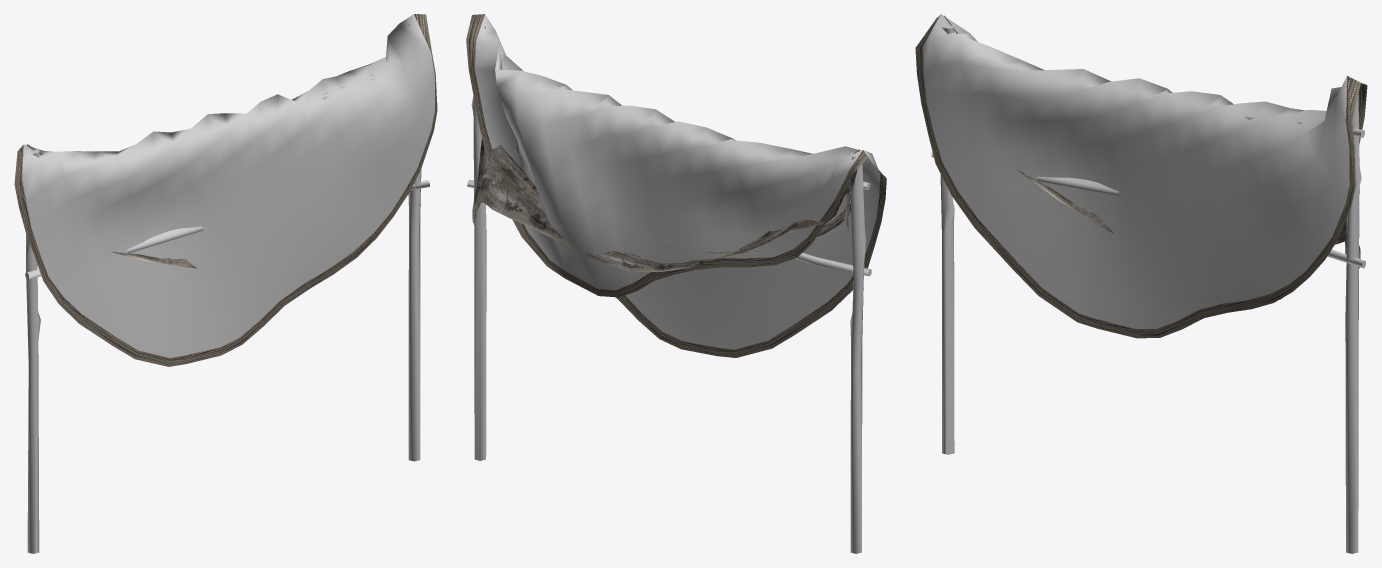
The model's file is Fishnet3.fbx.
The picture shows the model from 3 angles, left to right: view 1: azimuth 30°, elevation 25°; view 2: azimuth 150°, elevation 25°; view 3: azimuth 330°, elevation 25°; orthographic projection. The views are drawn at different scales.
Visible parts, largest first — view 1: polySurface1192; view 2: polySurface1192; view 3: polySurface1192.
Boxes of the visible parts, bbox=[...] form: polySurface1192: bbox=[14, 14, 437, 553]; polySurface1192: bbox=[466, 14, 886, 553]; polySurface1192: bbox=[915, 14, 1367, 553].
Size of the model in its own units: 7.78 by 7.95 by 1.14.
